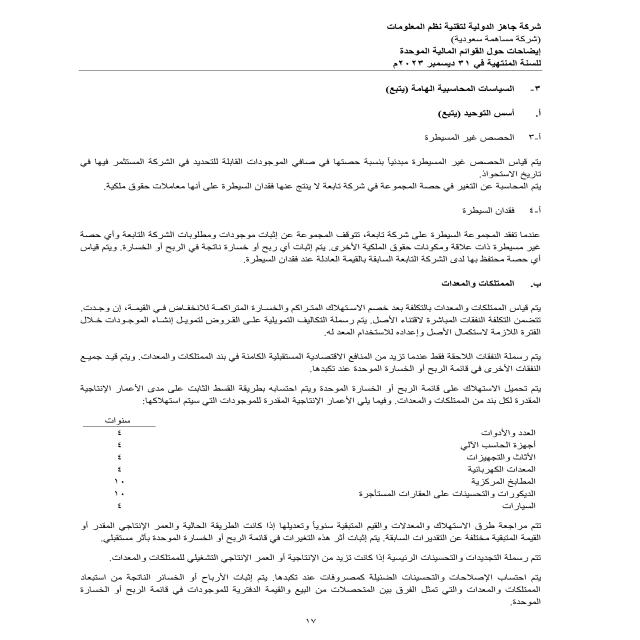notes: (388, 46, 546, 56)
text: (29, 80, 556, 612)
